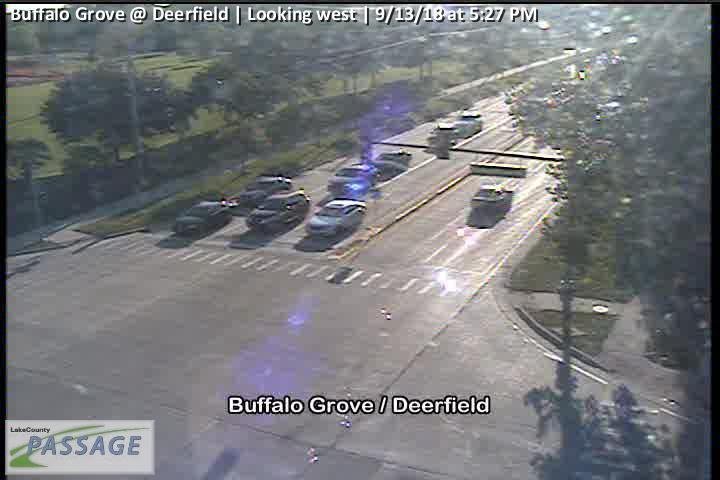Sedan: (247, 190, 310, 235), (308, 198, 365, 243), (175, 201, 232, 236), (240, 175, 291, 209), (327, 163, 375, 195), (470, 186, 513, 217), (372, 149, 411, 177), (456, 110, 483, 135)
